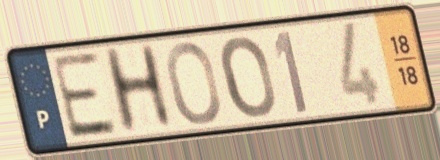1: (271, 27, 310, 117)
4: (338, 17, 385, 111)
E: (47, 49, 122, 142)
H: (98, 40, 177, 138)
O: (218, 33, 279, 121), (164, 39, 224, 127)
